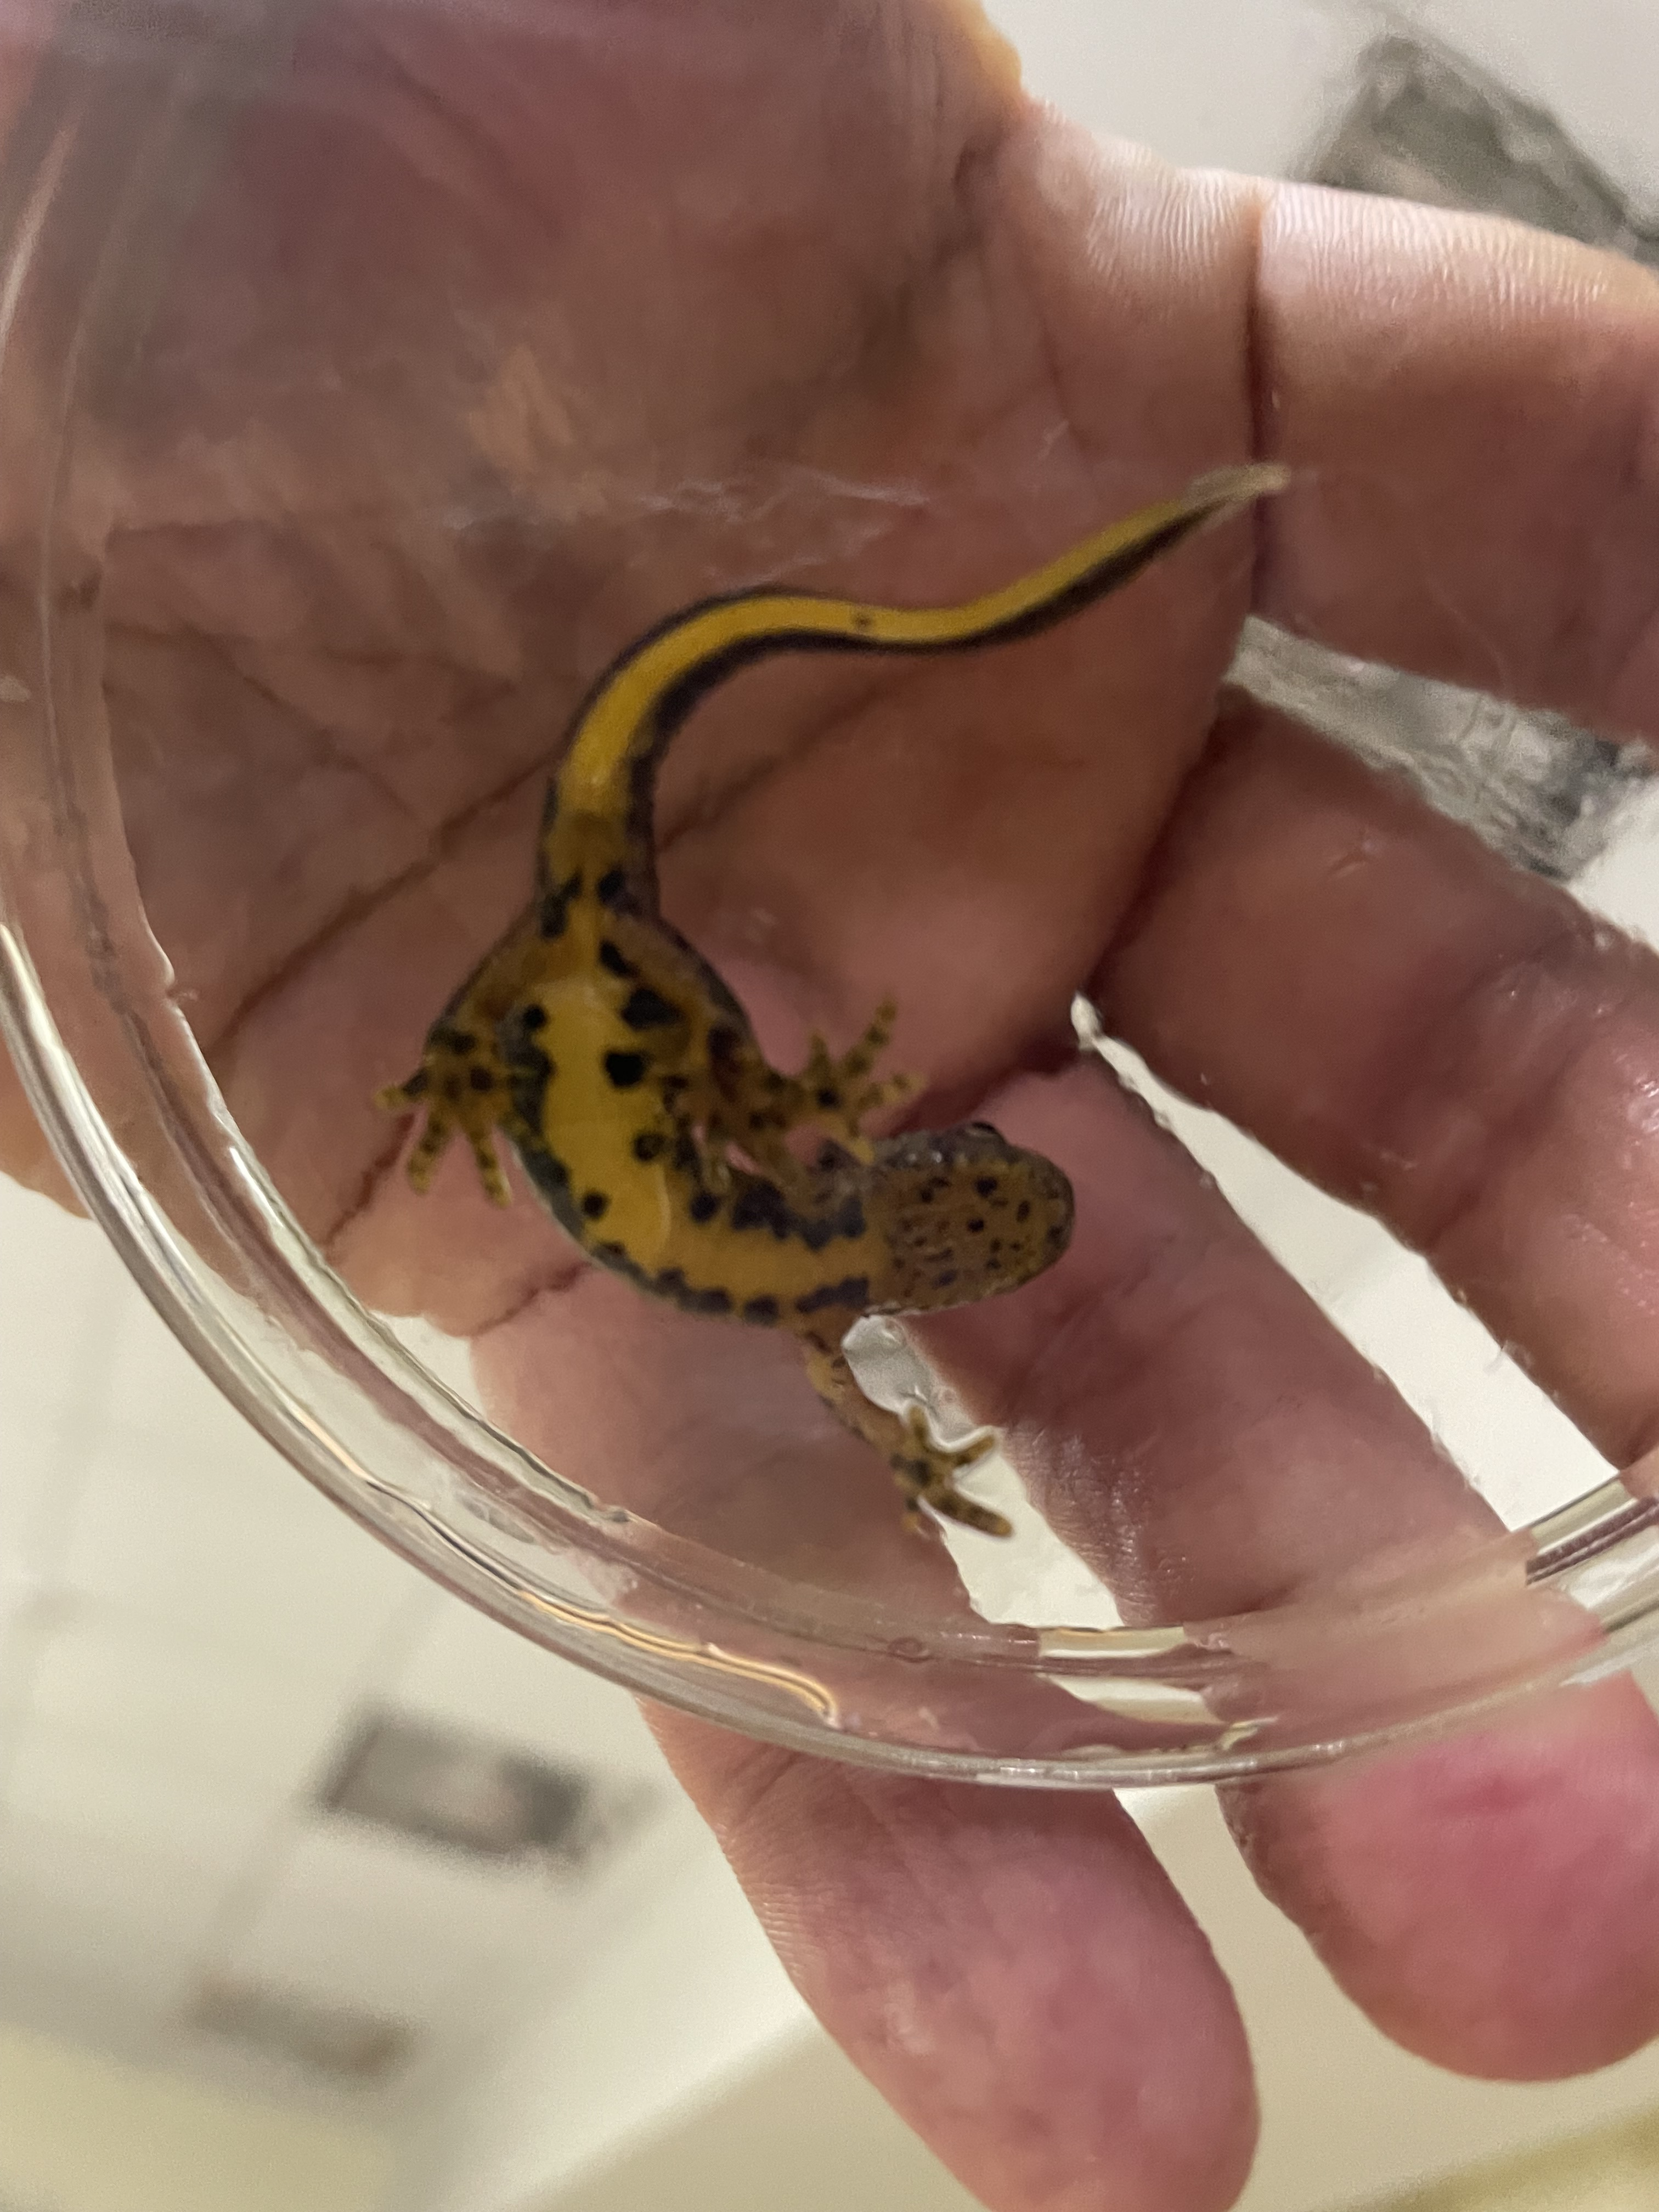Karelin_newt: (495, 1080, 838, 1329)
